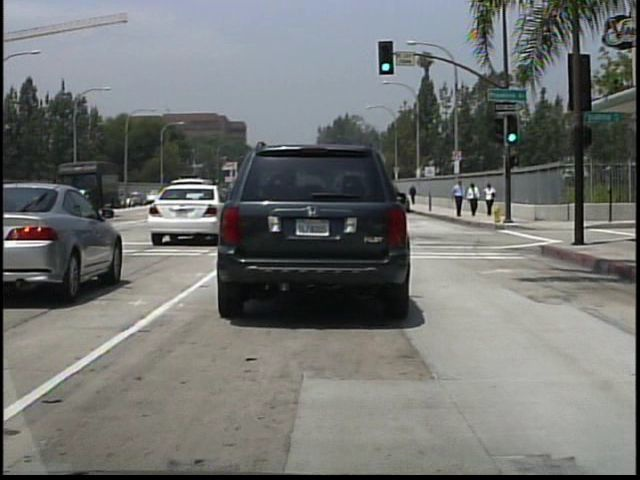person: (451, 178, 466, 219), (466, 180, 480, 216), (482, 180, 496, 215), (407, 184, 417, 206)
